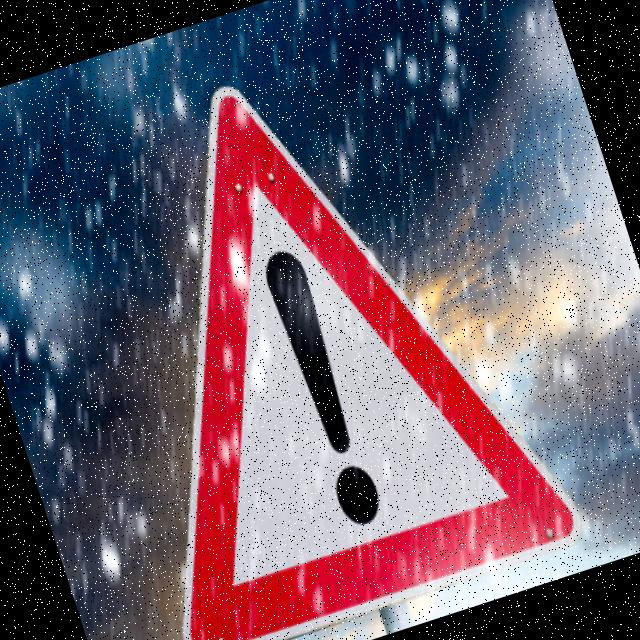warning: (21, 19, 594, 640)
